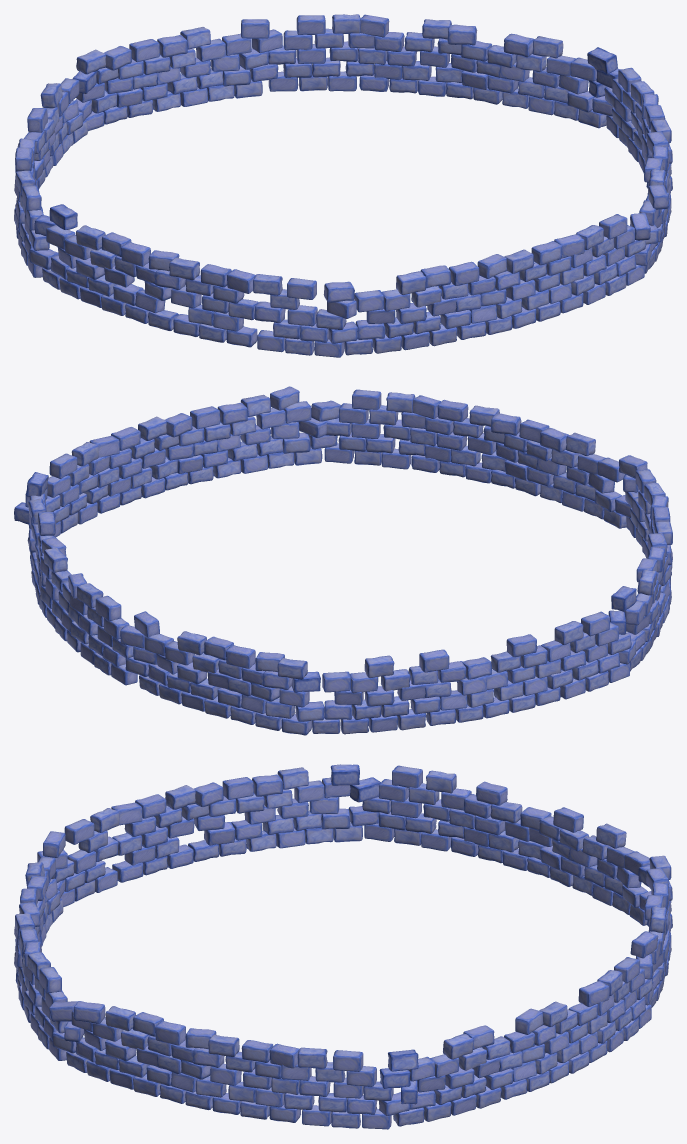
File: wall_02.fbx
3 renders of one model, top to bottom at view 1: azimuth 30°, elevation 25°; view 2: azimuth 150°, elevation 25°; view 3: azimuth 270°, elevation 25°, orthographic. The views are drawn at different scales.
Visible parts, largest first — view 1: pCube79; view 2: pCube79; view 3: pCube79.
Part boxes in pixels (x1=…): pCube79: x1=14, y1=14, x2=672, y2=357; pCube79: x1=14, y1=386, x2=672, y2=735; pCube79: x1=14, y1=764, x2=672, y2=1129.
Bounding box in the file's own units: 27.08 × 3.22 × 25.04.
